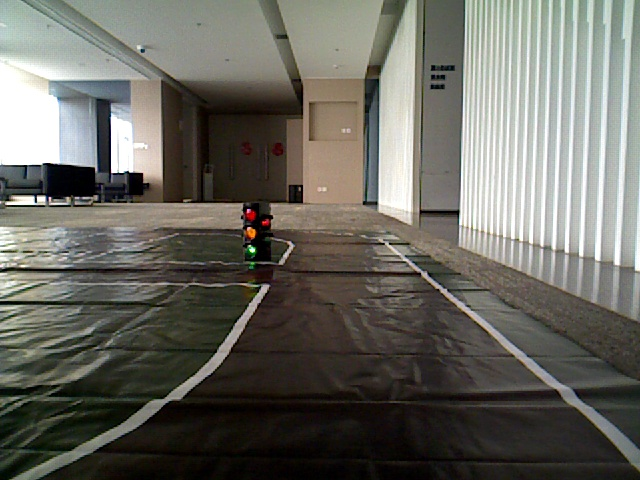green: (243, 205, 262, 254)
